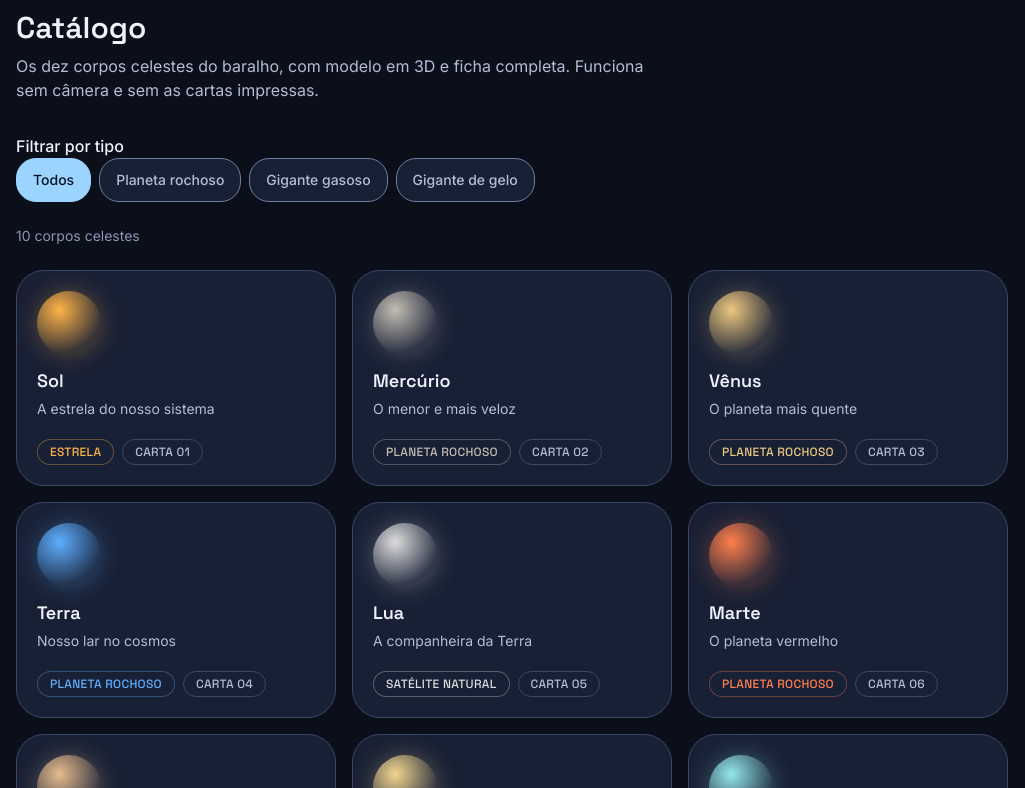
Scenario: CatalogPage › filtra por tipo
Click the radio button labelled "Gigante gasoso". click: click(318, 180)
box: [249,158,388,202]
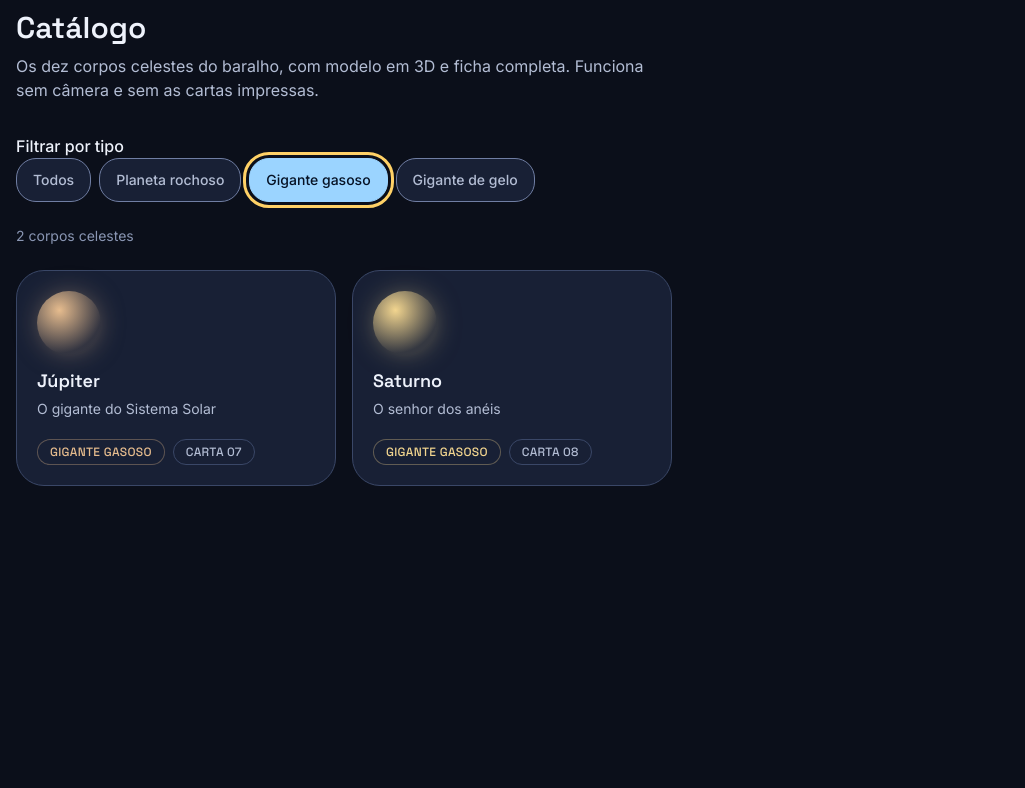
Expected: the link "Júpiter O gigante do Sistema Solar Gigante gasoso Carta 07" is shown, [16,270,336,486]
Expected: the number of list items is 2, [16,270,336,486]; [352,270,672,486]
Expected: the link "Mercúrio" is gone
